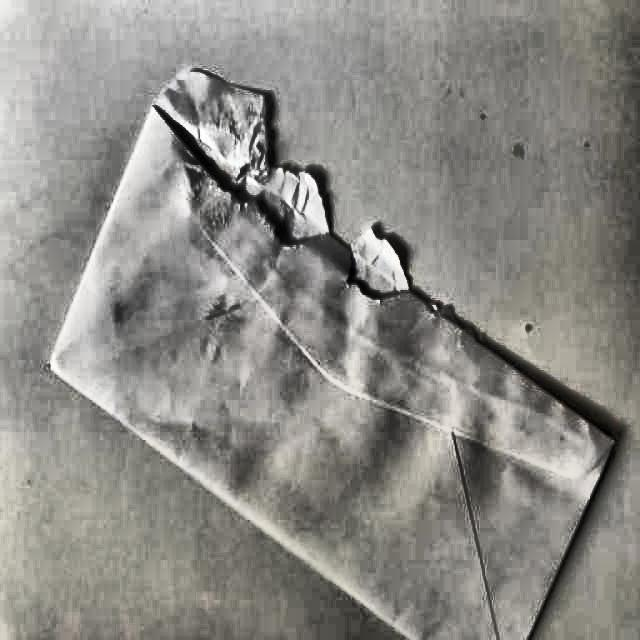cardboard: (47, 68, 626, 640)
